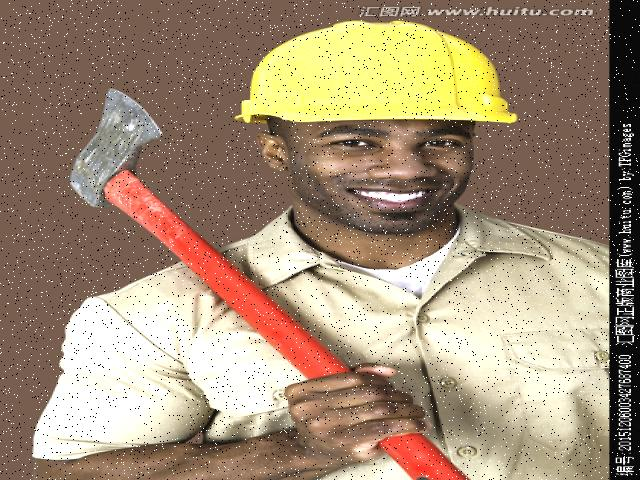Helmet: (226, 15, 525, 138)
